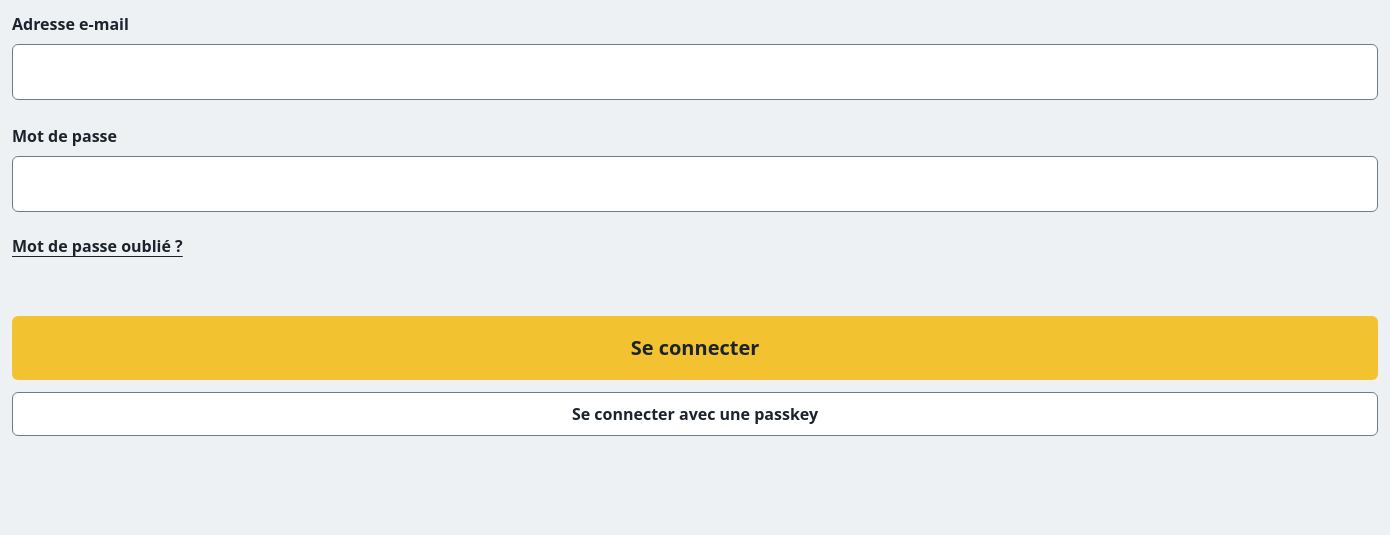
Test case: LoginForm › annonce des identifiants incorrects sans quitter la page
Type "membre@example.com" into the field labelled "Adresse e-mail" at (695, 72), box [12,44,1378,100]
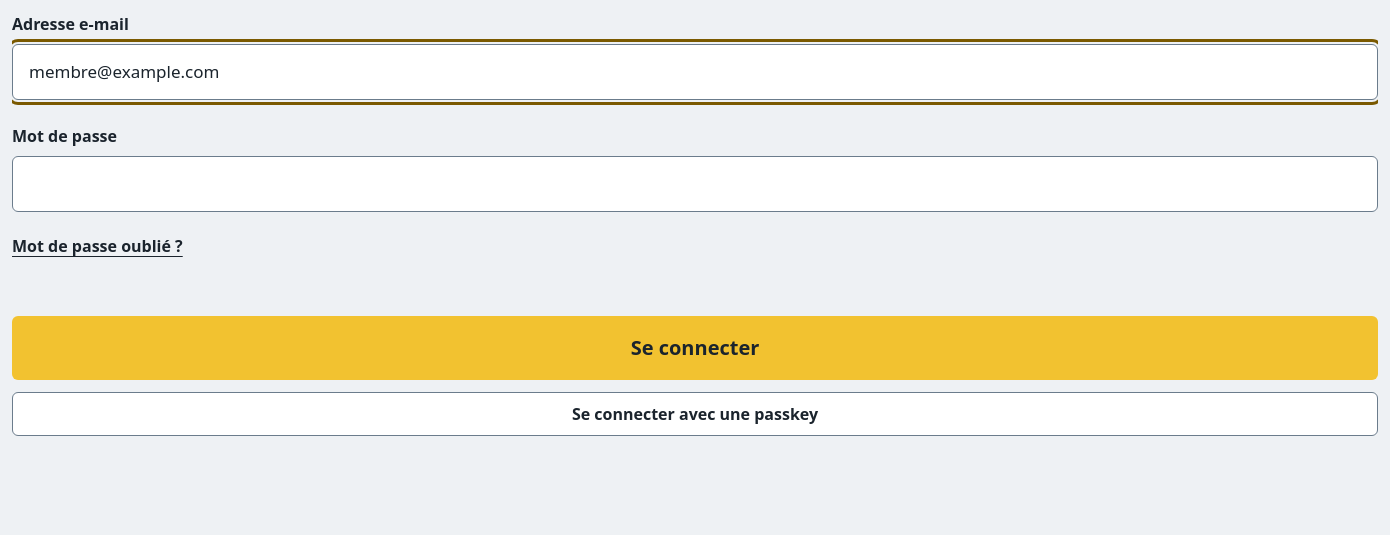
Type "faux" into the password field labelled "Mot de passe" at (695, 184), box [12,156,1378,212]
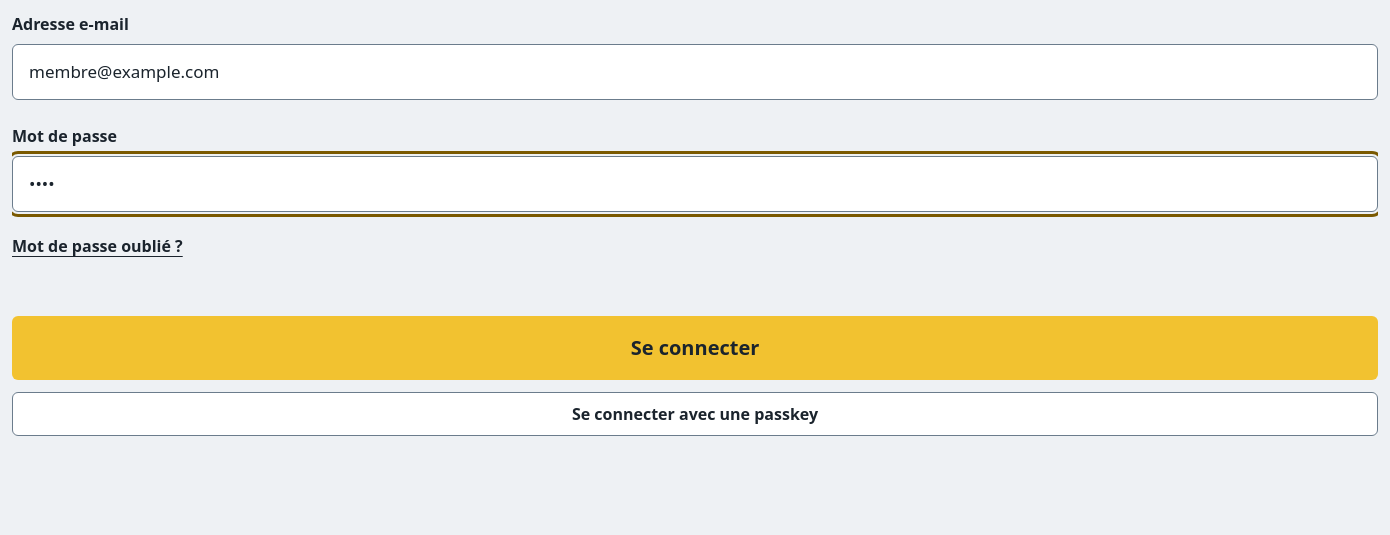
Press Enter
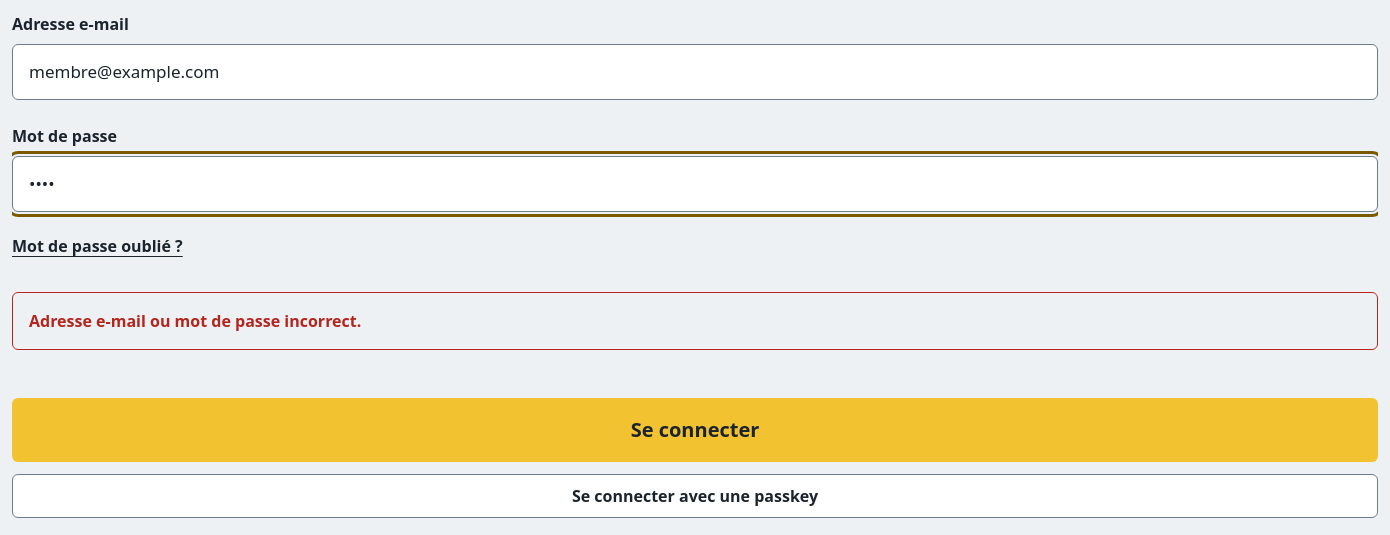
Check: the message reads "Adresse e-mail ou mot de passe incorrect.", box [29,310,361,332]
